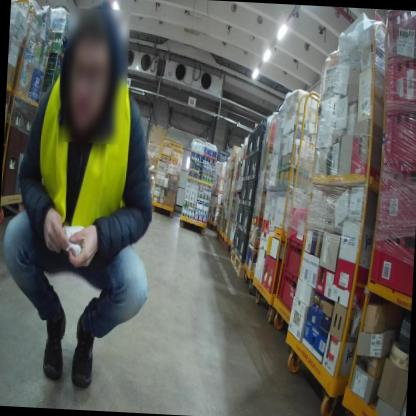pallet: (226, 251, 247, 279)
small_load_carrier: (365, 217, 415, 303), (369, 163, 416, 237), (380, 95, 416, 179), (380, 48, 416, 119), (385, 11, 416, 61), (278, 262, 305, 311), (282, 234, 308, 281), (286, 203, 311, 248)
